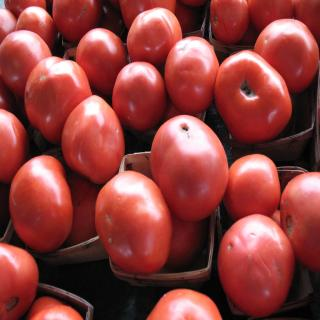tomato: (91, 168, 175, 276), (212, 211, 296, 317), (150, 116, 228, 223), (214, 48, 288, 140), (8, 154, 71, 253), (23, 53, 90, 145), (62, 92, 126, 183), (255, 18, 320, 90), (162, 35, 219, 112), (278, 170, 320, 270), (221, 152, 279, 220), (110, 61, 164, 132), (0, 28, 51, 98), (75, 25, 126, 94), (126, 8, 186, 66), (0, 240, 38, 320), (146, 286, 220, 320), (66, 176, 98, 247), (0, 108, 29, 186), (50, 0, 99, 43), (15, 5, 60, 48), (168, 216, 203, 271), (209, 0, 248, 42), (120, 0, 177, 28), (248, 0, 294, 29), (291, 0, 320, 42), (32, 301, 83, 320), (29, 294, 64, 320), (3, 0, 47, 18), (0, 7, 21, 43), (0, 80, 16, 116), (274, 209, 284, 233)
